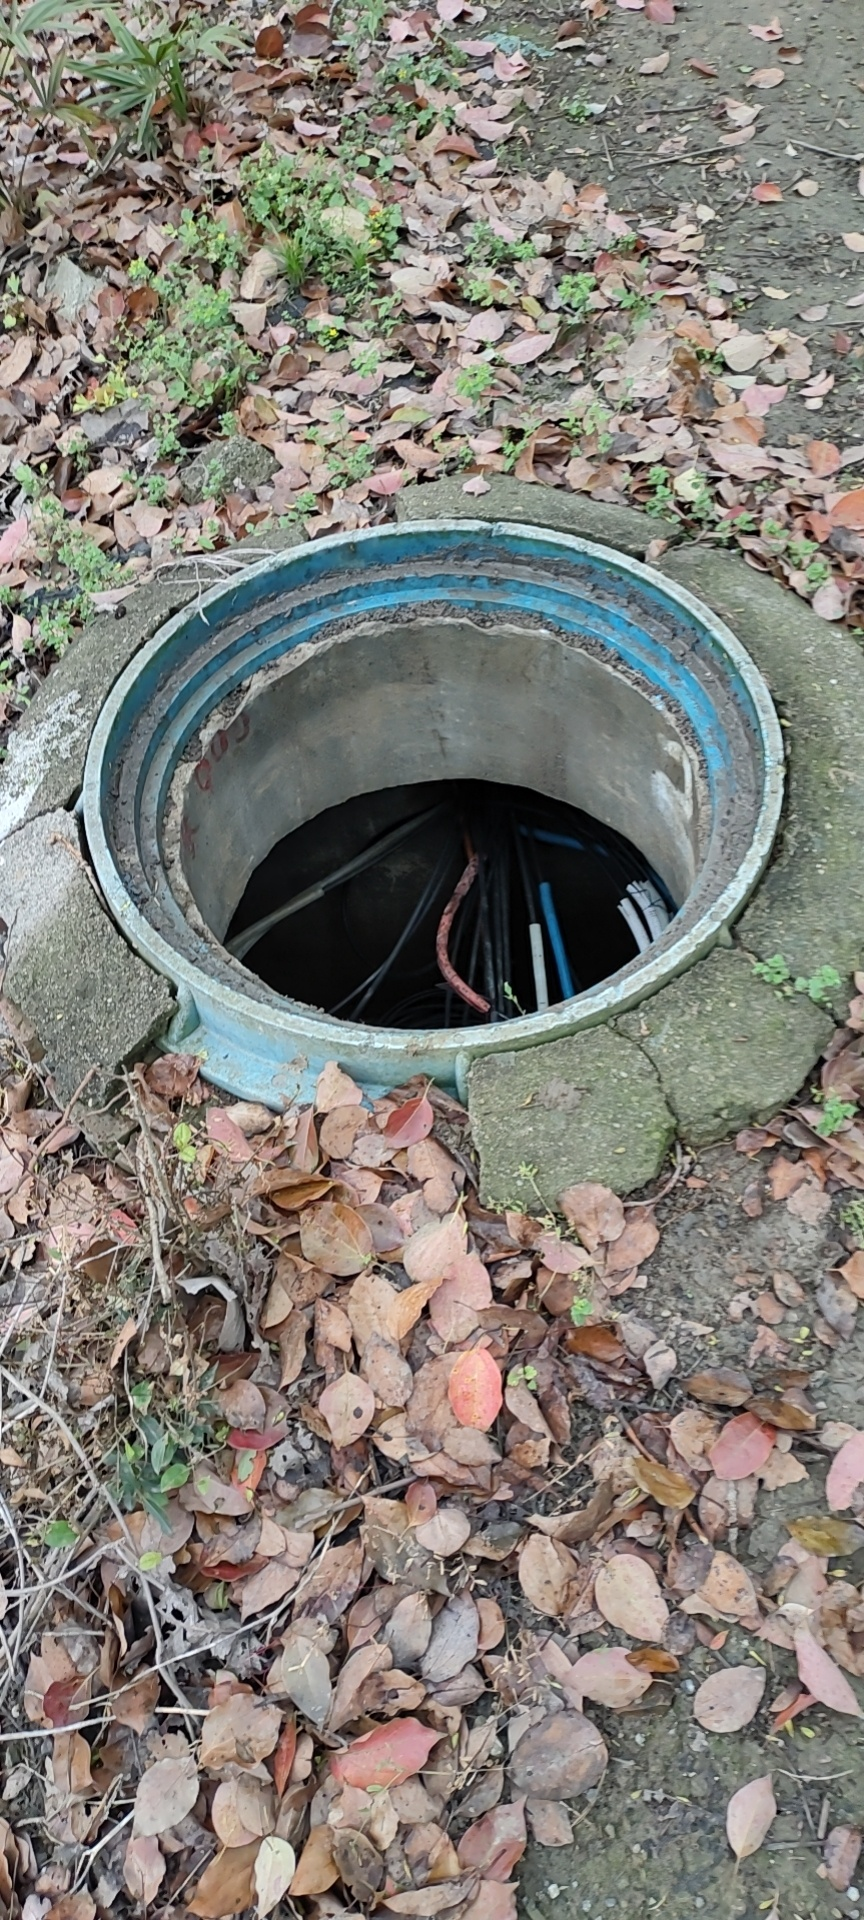lose: (80, 509, 788, 1044)
